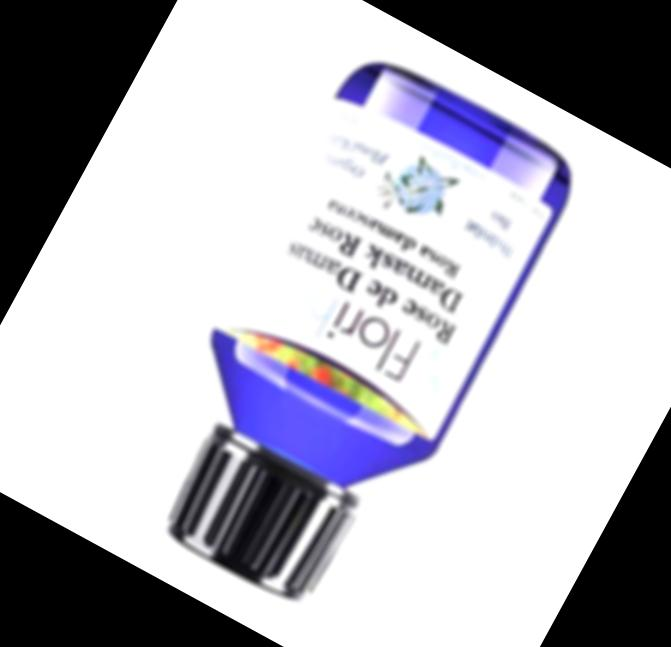cosmetic: (108, 45, 592, 635)
